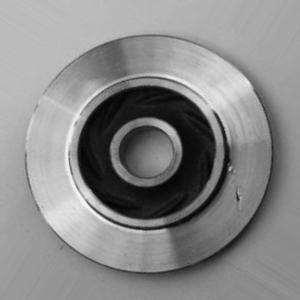defect: (213, 136, 253, 224)
